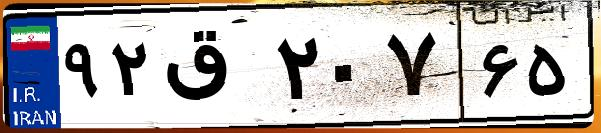0: (330, 28, 385, 110)
2: (270, 28, 330, 110), (110, 28, 158, 98)
5: (525, 38, 570, 115)
6: (475, 38, 525, 113)
7: (385, 28, 445, 110)
9: (57, 26, 110, 100)
ق: (158, 20, 270, 120)
